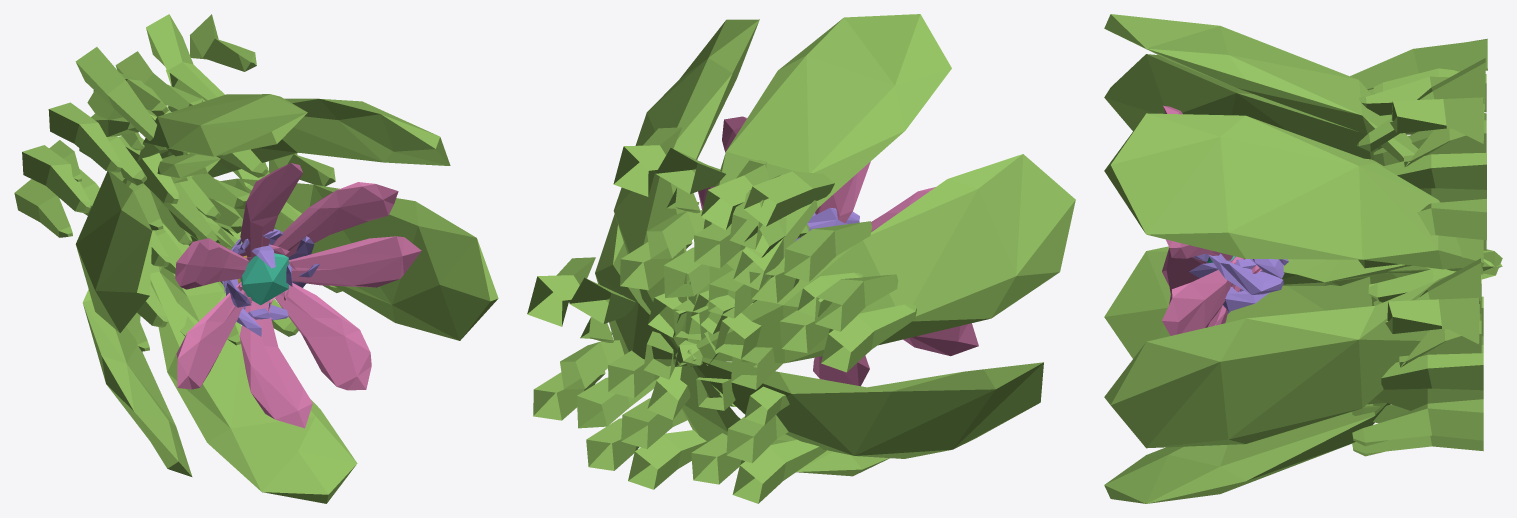
The model's file is Plants.fbx.
3 views of the same model, side by side, from view 1: azimuth 30°, elevation 25°; view 2: azimuth 150°, elevation 25°; view 3: azimuth 270°, elevation 25° (orthographic). The views are drawn at different scales.
Visible parts, largest first — view 1: Cube.019, Cube.001, Cube.004, Cube.009, Cube.006, Cube.005, Cube.007, Cube.015, Cube.012, Cube.003, Cube, Cube.008; view 2: Cube.019, Cube.001, Cube.006, Cube.004, Cube.005, Cube.008, Cube.003, Cube.009, Cube.007, Cube.012; view 3: Cube.019, Cube.001, Cube.009, Cube.008, Cube.004, Cube.012, Cube.003, Cube.
Part boxes in pixels (<box>): Cube.019: <box>75,94,498,503</box>; Cube.001: <box>136,153,342,351</box>; Cube.004: <box>75,47,202,150</box>; Cube.009: <box>146,14,256,102</box>; Cube.006: <box>14,145,99,237</box>; Cube.005: <box>48,102,146,185</box>; Cube.007: <box>118,136,220,230</box>; Cube.015: <box>157,153,225,321</box>; Cube.012: <box>162,175,319,336</box>; Cube.003: <box>91,73,187,156</box>; Cube: <box>212,229,292,319</box>; Cube.008: <box>167,106,268,177</box>; Cube.019: <box>595,14,1075,476</box>; Cube.001: <box>527,257,826,503</box>; Cube.006: <box>779,274,916,372</box>; Cube.004: <box>701,160,834,257</box>; Cube.005: <box>749,221,872,317</box>; Cube.008: <box>620,210,709,297</box>; Cube.003: <box>694,174,817,290</box>; Cube.009: <box>613,127,725,213</box>; Cube.007: <box>673,270,761,359</box>; Cube.012: <box>689,207,859,388</box>; Cube.019: <box>1104,14,1502,503</box>; Cube.001: <box>1352,237,1483,456</box>; Cube.009: <box>1357,58,1485,166</box>; Cube.008: <box>1382,152,1486,240</box>; Cube.004: <box>1350,38,1487,117</box>; Cube.012: <box>1207,253,1462,313</box>; Cube.003: <box>1373,68,1486,165</box>; Cube: <box>1189,253,1502,291</box>.
Bounding box in the file's own units: 2.7 × 2.74 × 2.18.
